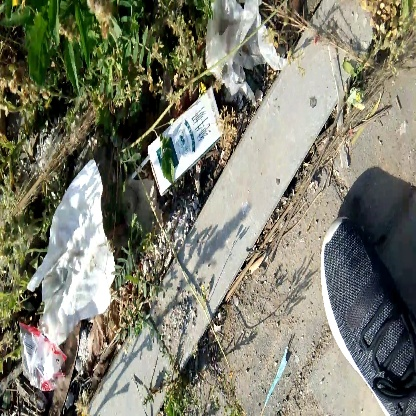milk-box: (141, 89, 227, 196)
